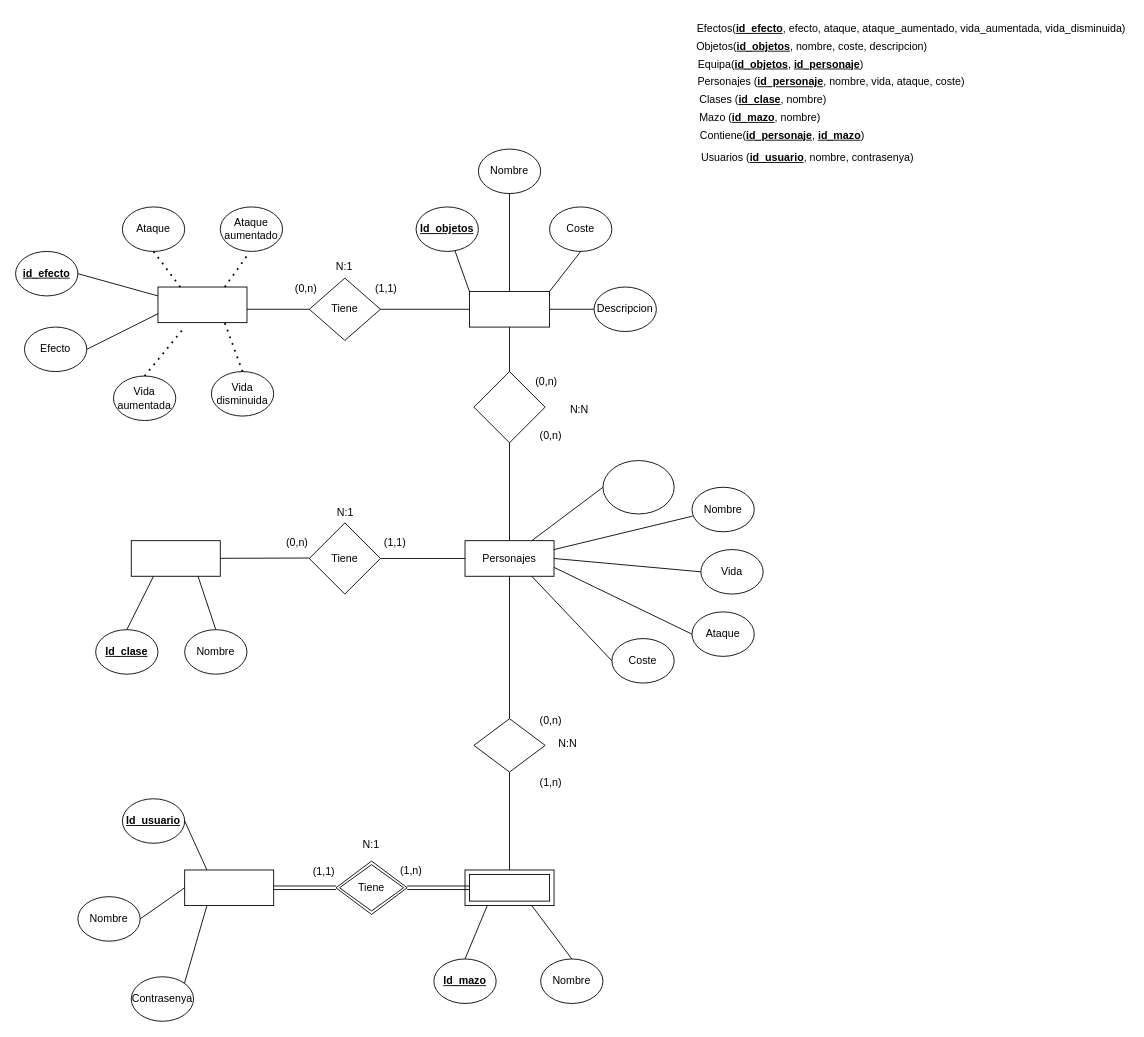
Some shapes in this 1144 by 1037 pixel diagram are drawn without their labels. The shapes that lost their labels are listed below. From the top down, each one's centre as x and y in pixels, then its label:
(x=202, y=304): Efectos
(x=509, y=309): Objetos
(x=509, y=407): Equipa
(x=638, y=487): Id_personaje
(x=175, y=558): Clases
(x=509, y=745): Contiene
(x=229, y=887): Usuarios
(x=509, y=887): Mazo
